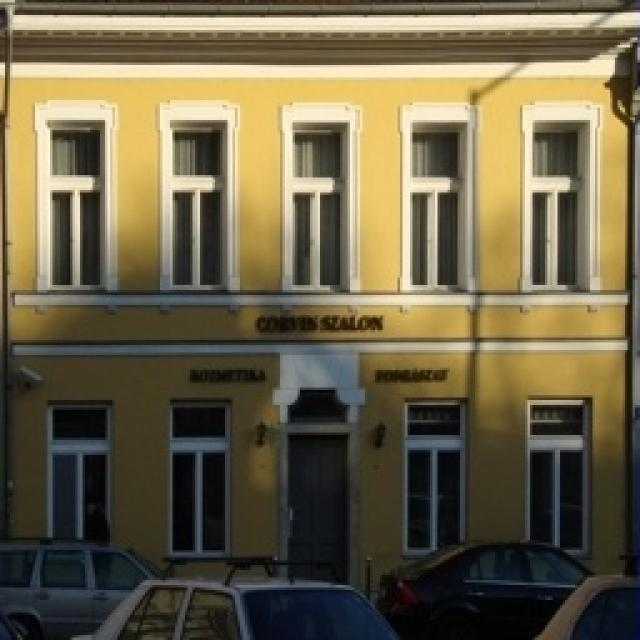Window: (50, 122, 105, 282), (172, 125, 225, 288), (172, 402, 225, 552), (47, 405, 105, 540), (530, 405, 585, 543), (412, 132, 460, 286), (408, 400, 460, 542), (292, 125, 338, 285), (532, 132, 576, 286)
